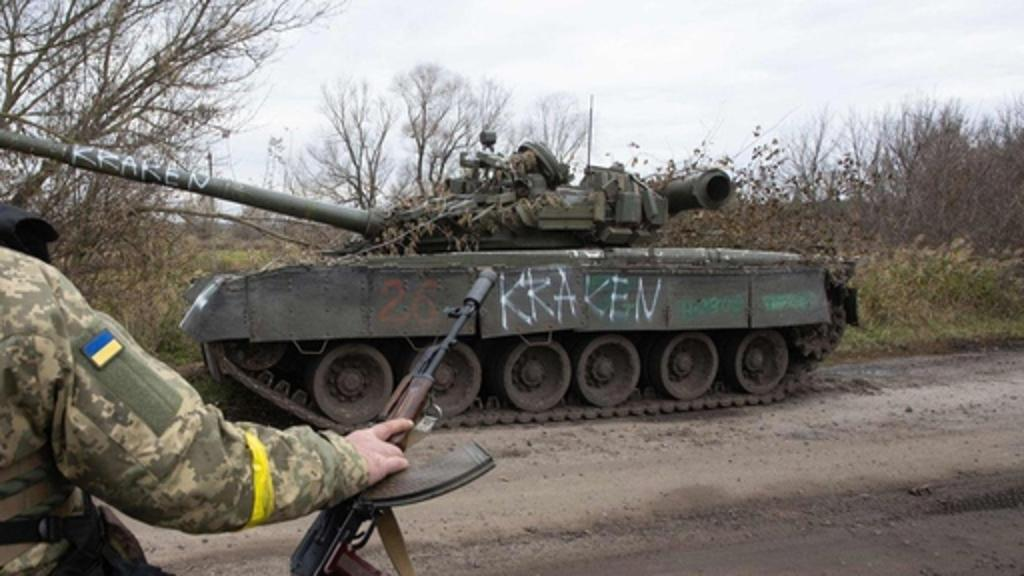TANK: (0, 120, 860, 416)
